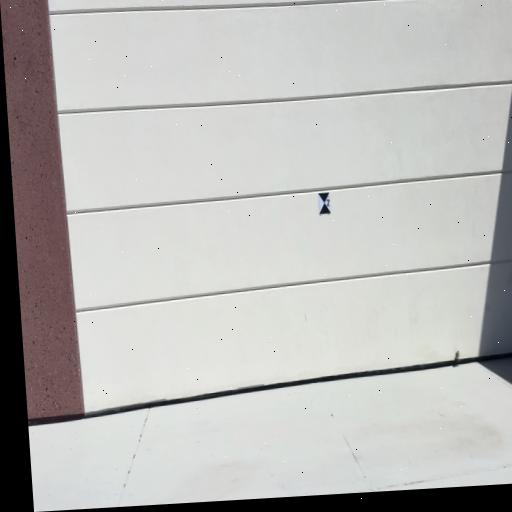target7: (318, 192, 332, 215)
